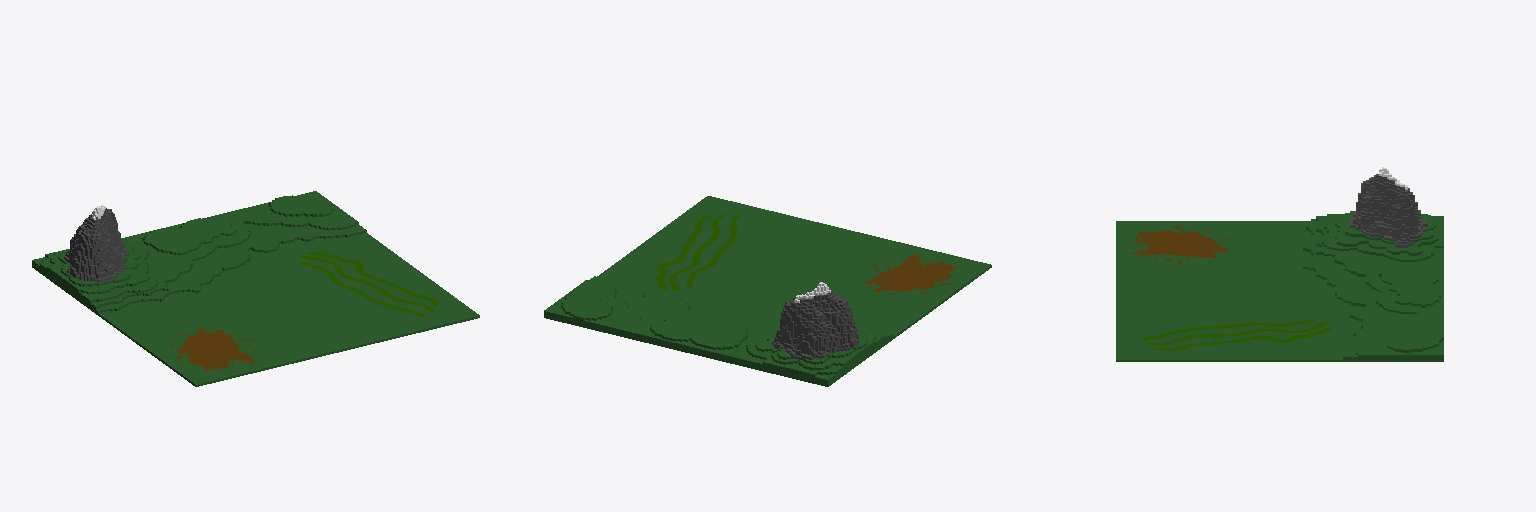
The picture shows the model from 3 angles: view 1: azimuth 30°, elevation 25°; view 2: azimuth 150°, elevation 25°; view 3: azimuth 270°, elevation 25°; orthographic projection.
Bounding box in the file's own units: 126 × 31 × 126.
Materials: 1 (1 with a texture image).